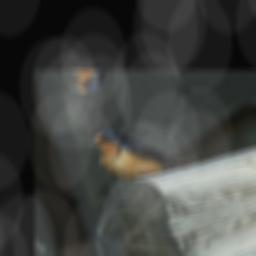Swallow: (85, 102, 218, 191)
